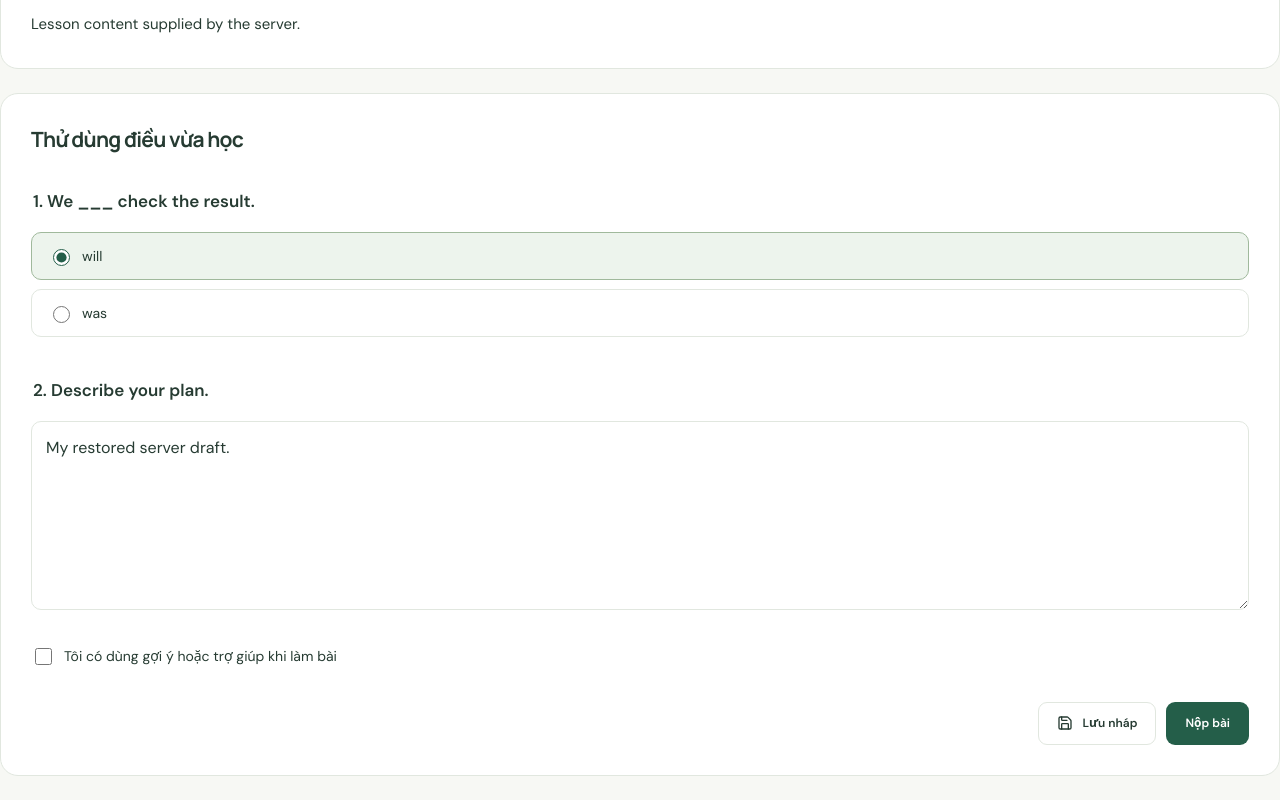
Server-backed lesson drafts and grading › keeps edited answers after a failed draft save
(page scrolled)
Replace the text in the text box named "Describe your plan." with "My unsaved new answer.": point(640, 515) [31,421,1249,610]
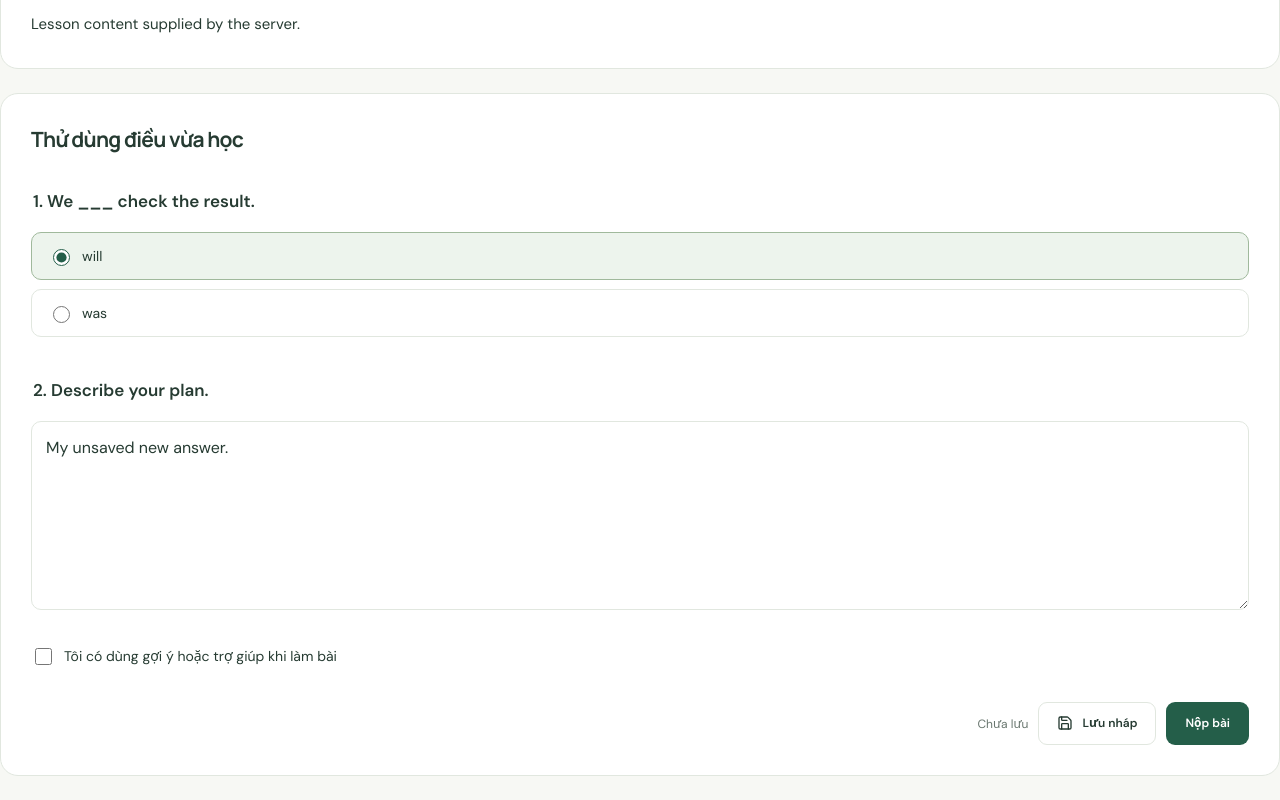
Click the button "Lưu nháp": point(1097, 723) [1038,702,1156,745]
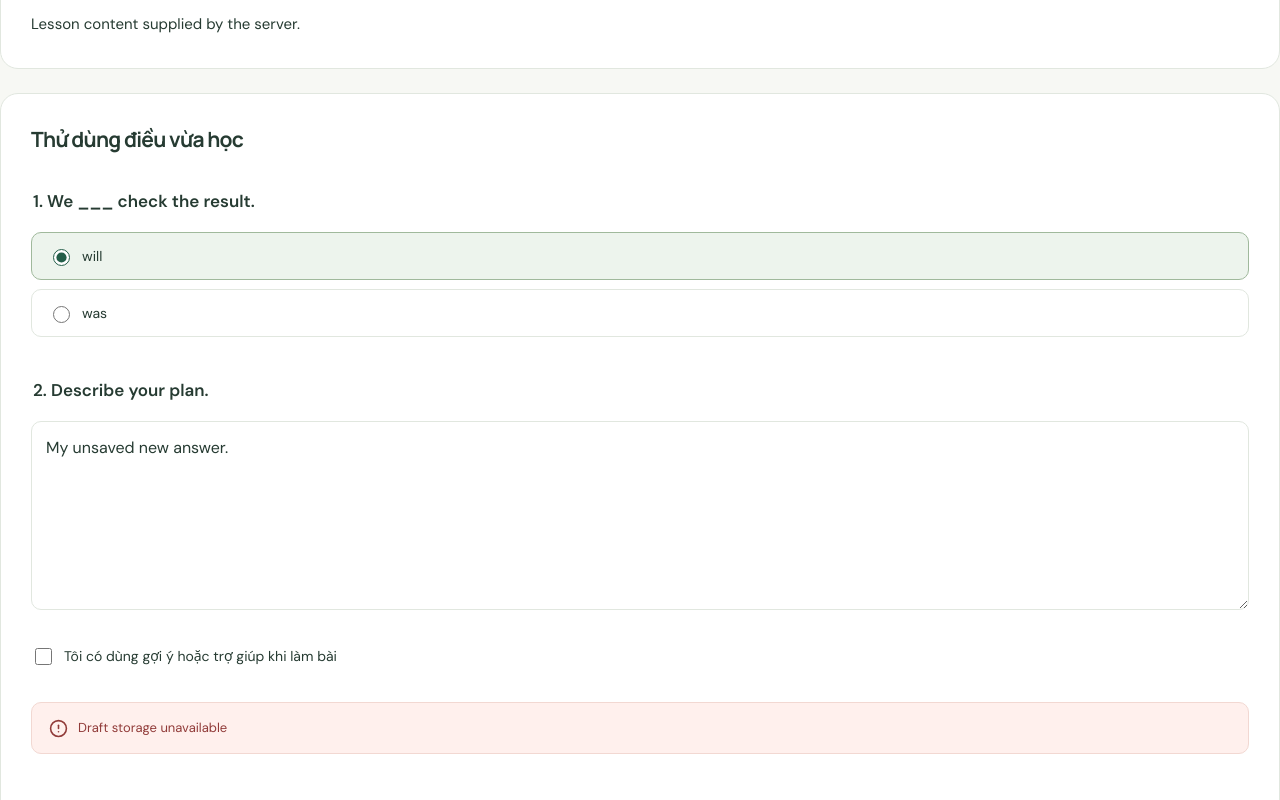
Expected: the message reads "Draft storage unavailable", [78,719,227,736]
